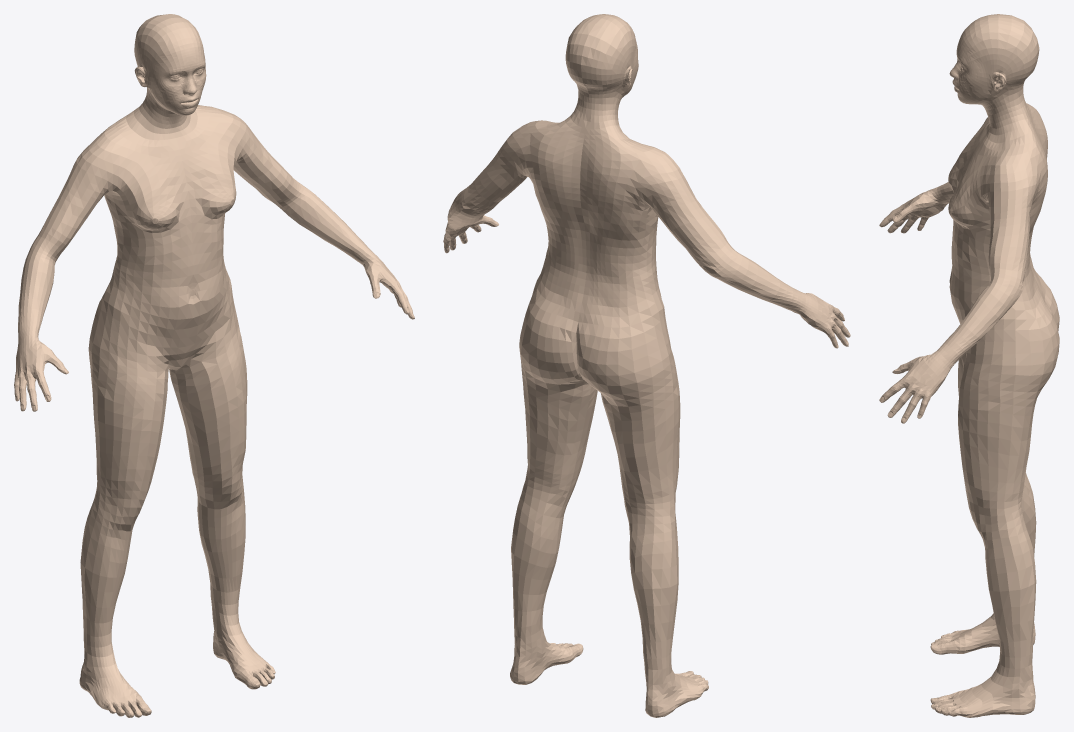
File: female-young-heavy-medium.glb
The picture shows the model from 3 angles, left to right: view 1: azimuth 30°, elevation 25°; view 2: azimuth 150°, elevation 25°; view 3: azimuth 270°, elevation 25°; orthographic projection.
Parts seen in each view (by area): view 1: world; view 2: world; view 3: world.
Part boxes in pixels (x1,y1,x2,y2): world: [14, 14, 414, 717]; world: [443, 14, 850, 717]; world: [879, 14, 1059, 717].
Bounding box in the file's own units: 1.09 × 1.76 × 0.4326.
